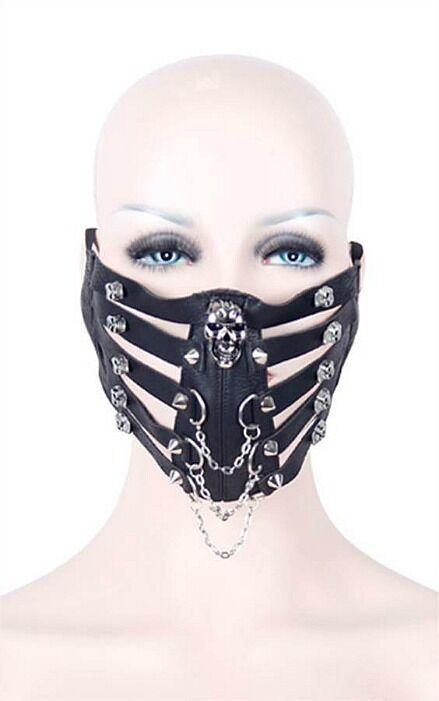Wearing Mask: (58, 12, 439, 593)
